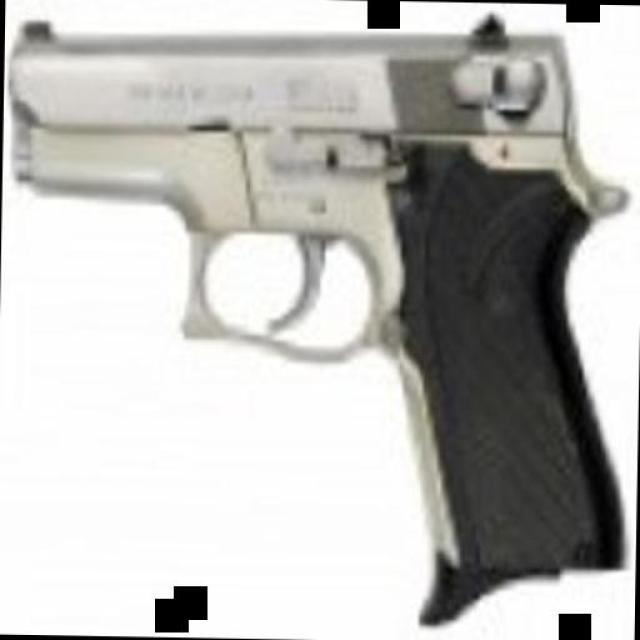gun: (0, 8, 635, 616)
